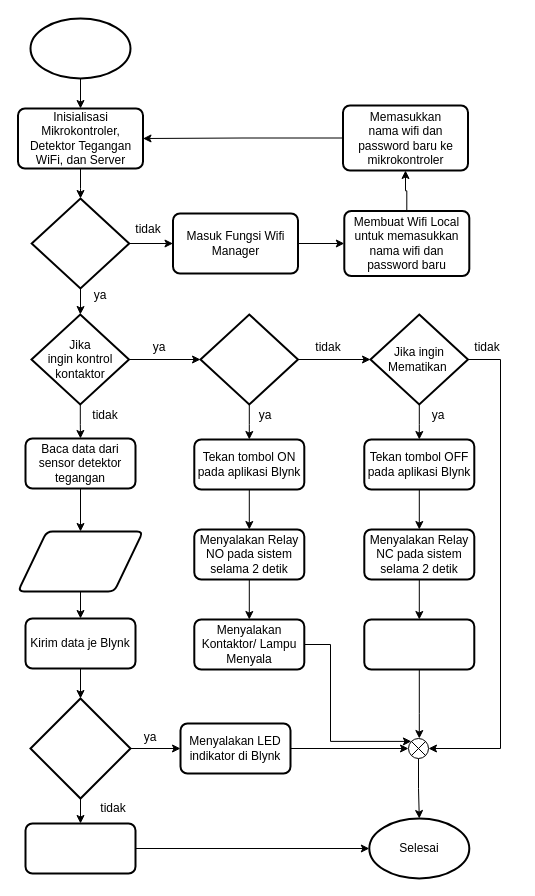
Image size: 535x896. Some labels were removed from this diagram. Here are the shapes that lost their labels. From the top down, the centre of each, then its label:
At point (80, 48): "Mulai".
At point (80, 243): "Jika WiFi Terhubung".
At point (248, 359): "Jika ingin Menyalakan".
At point (80, 561): "Input Digital sensor detektor tegangan".
At point (419, 644): "Mematikan Kontaktor/ Lampu Mati".
At point (80, 748): "Jika Input Digital High/1".
At point (80, 848): "Mematikan LED indikator di Blynk".
